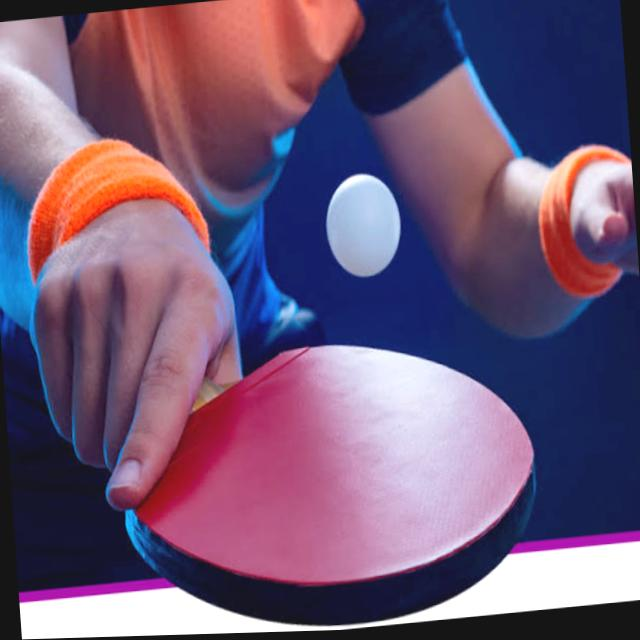TT Racket: (74, 322, 587, 633)
